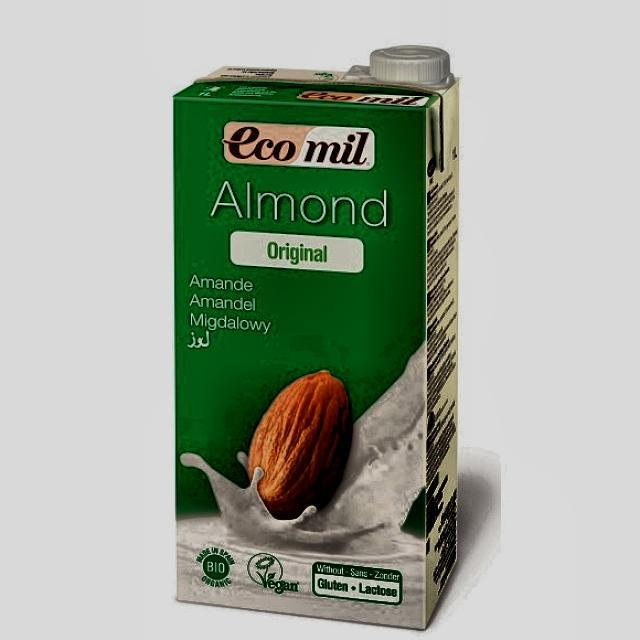cardboard: (172, 55, 460, 629)
